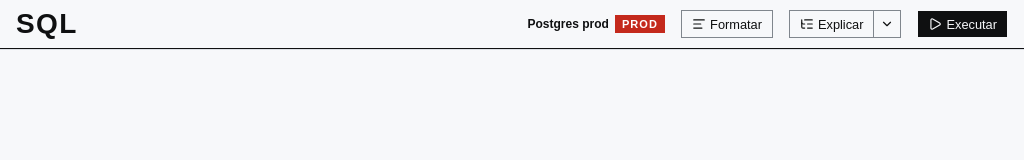
Test case: a failed format says why and leaves the text alone until the next edit
Click the button "Formatar": {"x": 727, "y": 24} [681, 10, 773, 38]
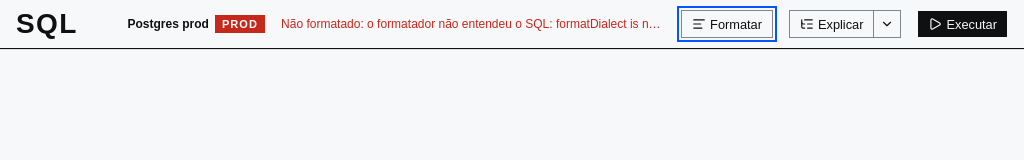
Expected: the message shows "Não formatado: o formatador não entendeu", [281, 16, 665, 32]
